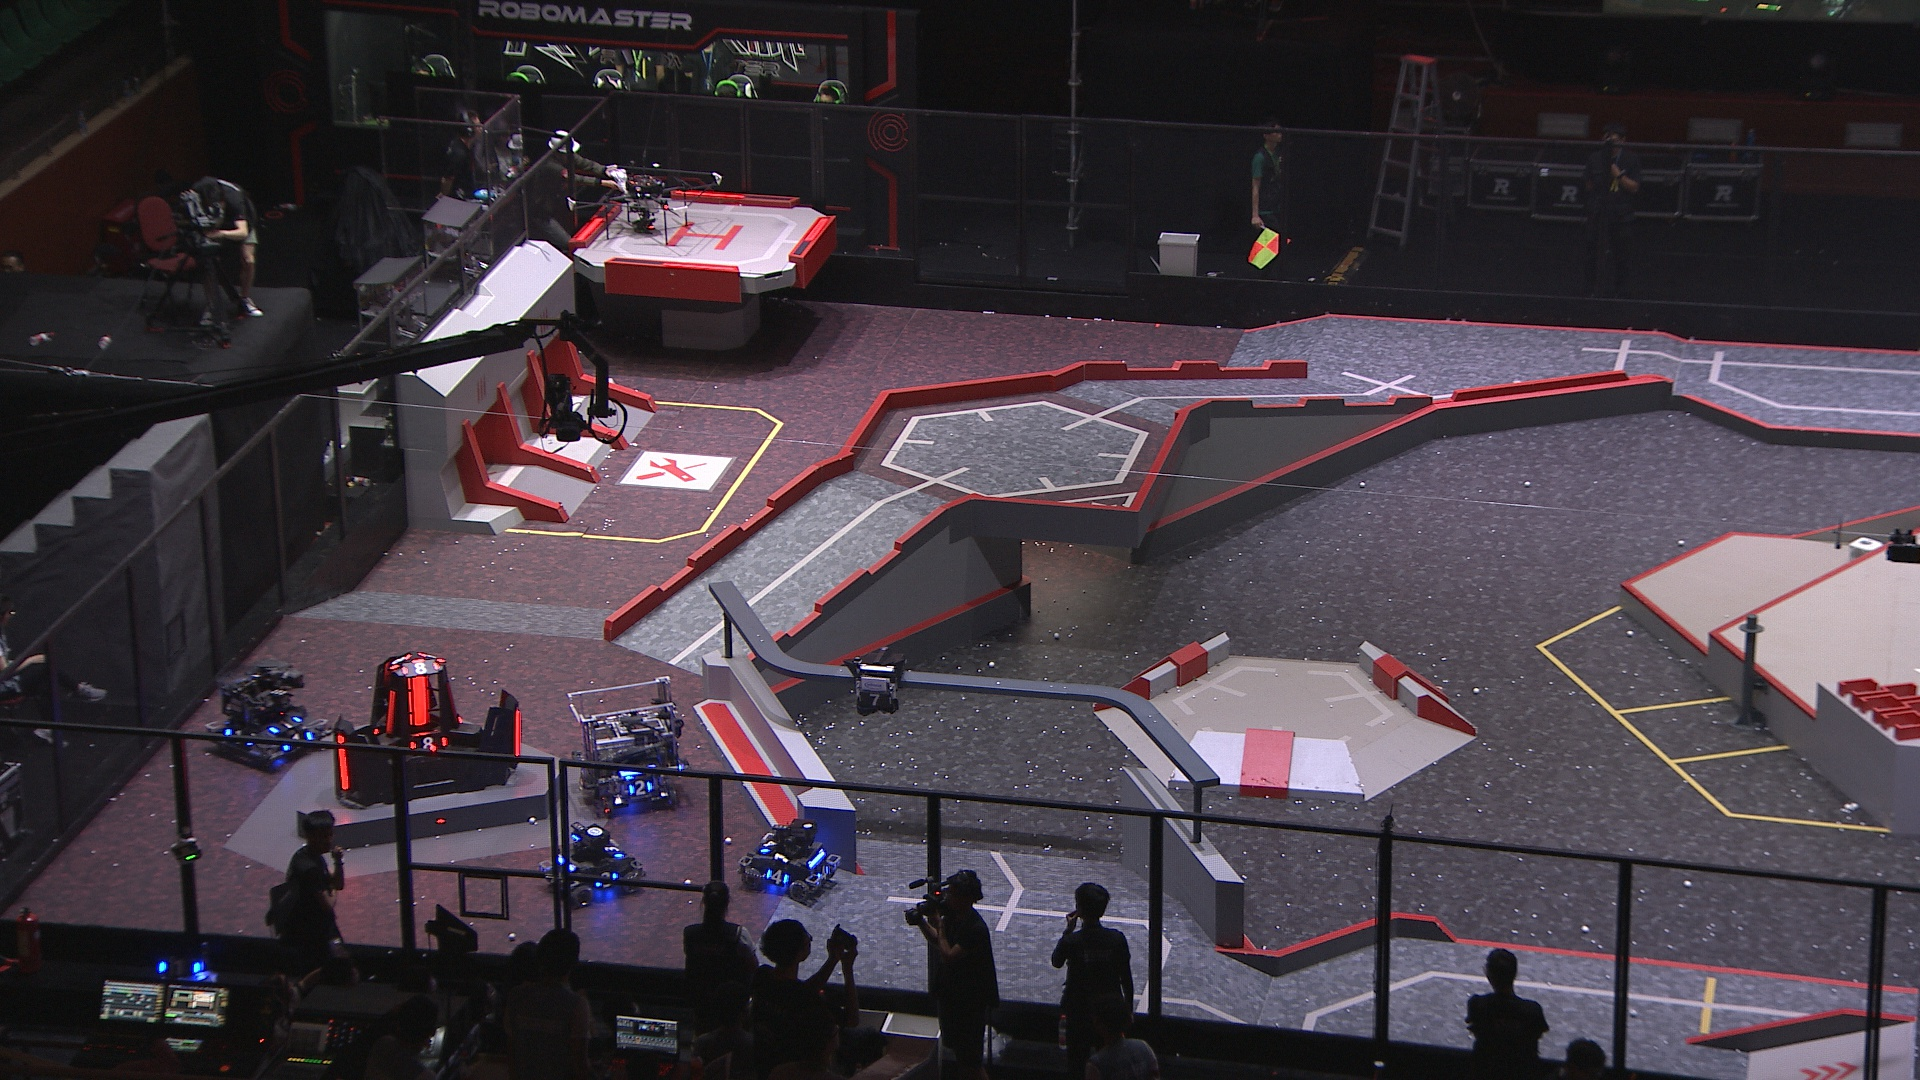armor: (406, 676, 429, 727), (334, 733, 352, 793), (406, 735, 451, 754), (855, 688, 894, 709), (266, 713, 302, 736), (284, 732, 316, 756), (220, 727, 258, 746), (398, 659, 443, 675), (512, 707, 524, 760), (386, 690, 398, 738), (628, 778, 655, 798), (589, 873, 618, 891), (764, 869, 790, 885), (814, 865, 832, 884), (604, 843, 624, 858), (757, 839, 775, 855)
base: (330, 650, 527, 808)
car: (570, 674, 686, 816), (202, 666, 324, 773), (539, 822, 642, 905), (738, 820, 841, 902)
watcher: (847, 646, 909, 717)
